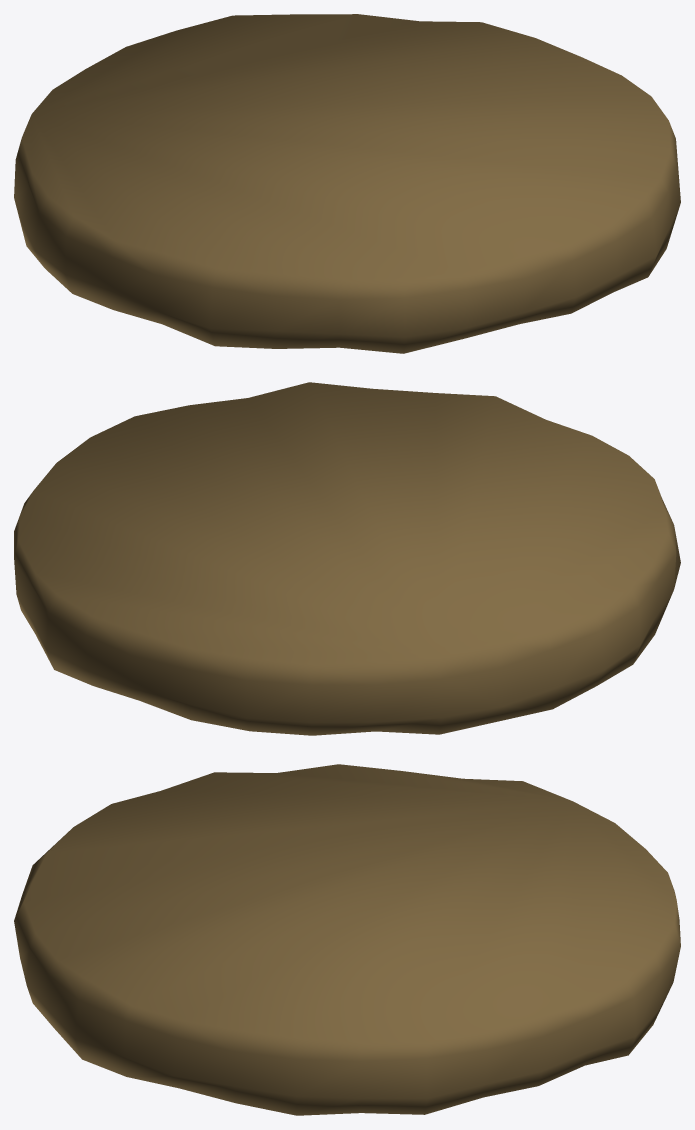
Rendered from meat.fbx.
3 views of the same model, one above another, from view 1: azimuth 30°, elevation 25°; view 2: azimuth 150°, elevation 25°; view 3: azimuth 270°, elevation 25° (orthographic).
Visible parts, largest first — view 1: Cylinder.001; view 2: Cylinder.001; view 3: Cylinder.001.
Boxes of the visible parts, bbox=[...] form: Cylinder.001: bbox=[14, 14, 680, 353]; Cylinder.001: bbox=[14, 382, 680, 735]; Cylinder.001: bbox=[14, 764, 680, 1115].
Bounding box in the file's own units: 86.26 × 12.25 × 86.06.
